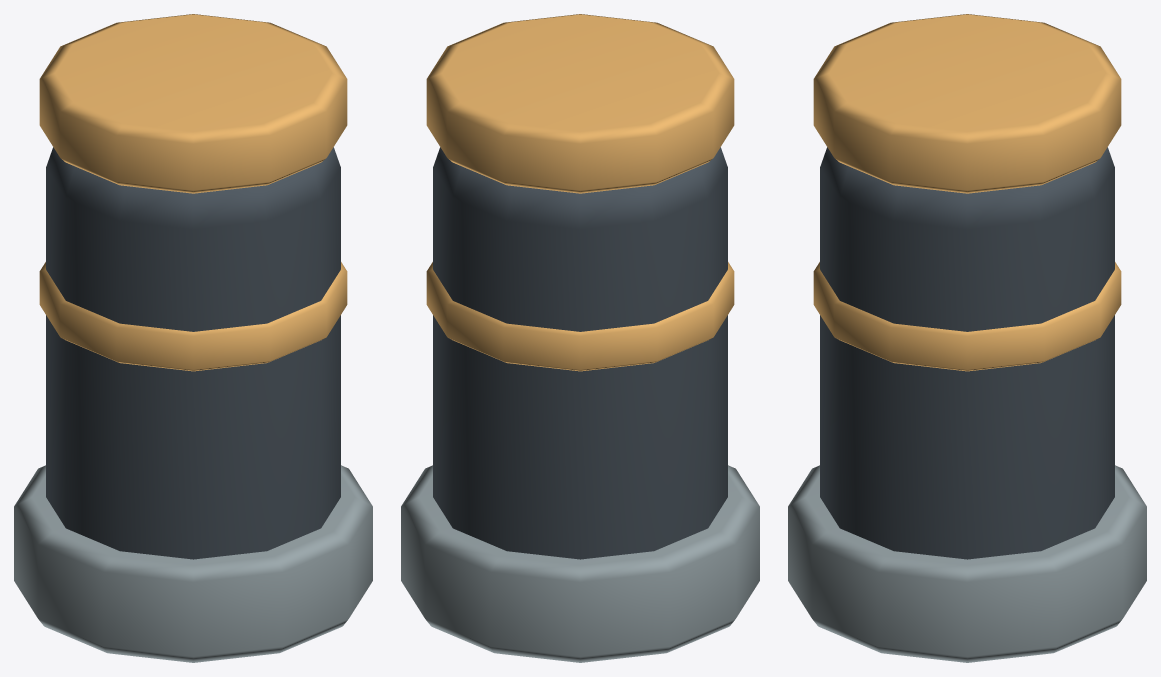
File: product-low.glb
The picture shows the model from 3 angles, left to right: view 1: azimuth 30°, elevation 25°; view 2: azimuth 150°, elevation 25°; view 3: azimuth 270°, elevation 25°; orthographic projection.
Parts seen in each view (by area): view 1: body, cap, base, band; view 2: body, cap, base, band; view 3: body, cap, base, band.
Part boxes in pixels (bbox=[...]): body: bbox=[46, 147, 340, 559]; cap: bbox=[39, 14, 347, 193]; base: bbox=[14, 465, 372, 662]; band: bbox=[39, 262, 347, 371]; body: bbox=[433, 147, 727, 559]; cap: bbox=[426, 14, 734, 193]; base: bbox=[401, 465, 759, 662]; band: bbox=[426, 262, 734, 371]; body: bbox=[820, 147, 1114, 559]; cap: bbox=[813, 14, 1121, 193]; base: bbox=[788, 465, 1146, 662]; band: bbox=[813, 262, 1121, 371].
Bounding box in the file's own units: 1.4 × 2.23 × 1.4.
